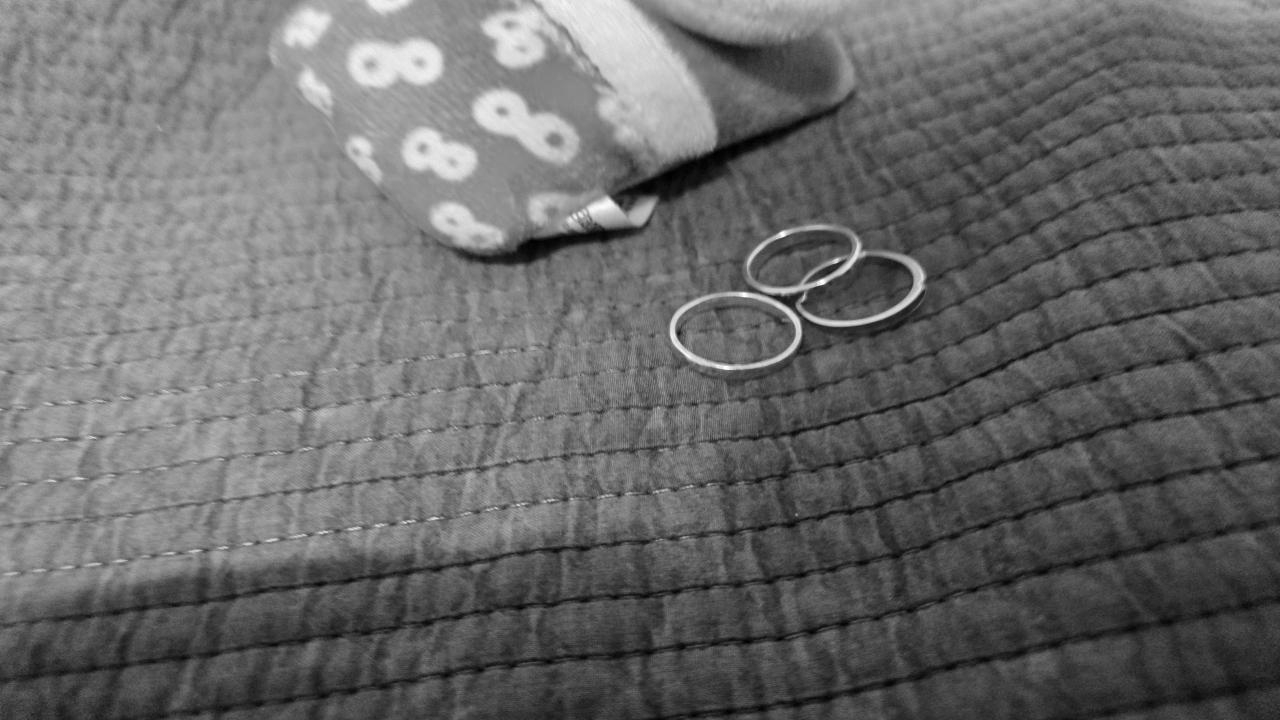ring: (668, 292, 802, 380), (796, 248, 932, 331), (741, 224, 863, 301)
